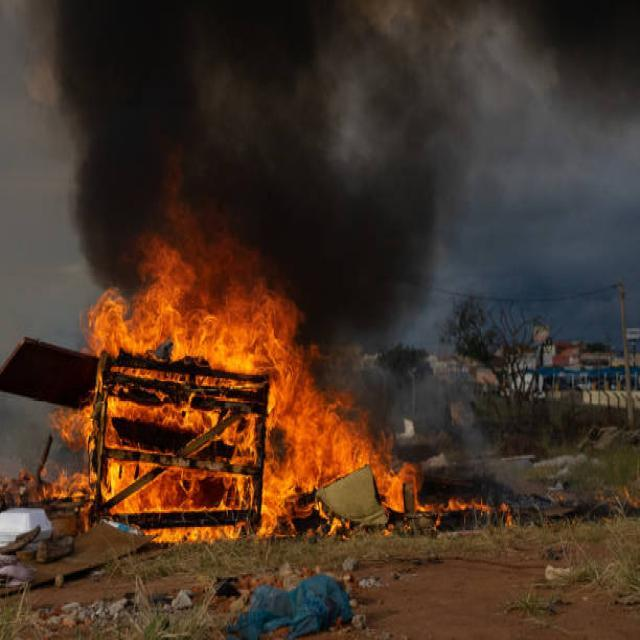Fire: (66, 246, 408, 537)
Smoke: (55, 0, 438, 342)
